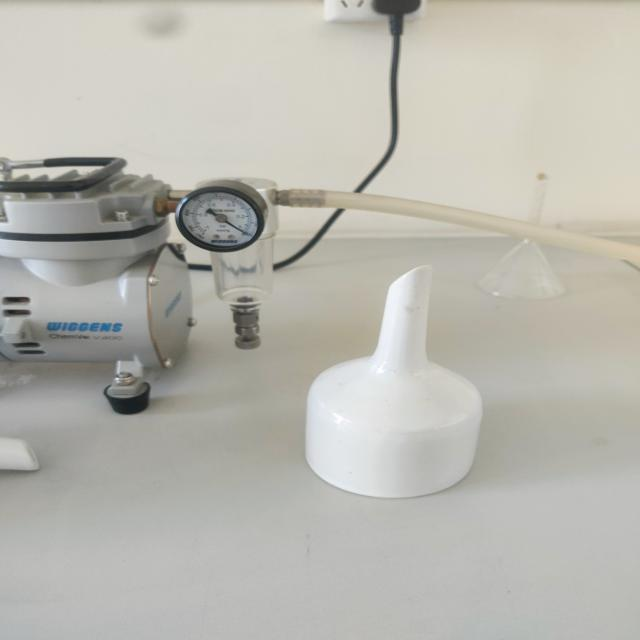Buchner_Funnel: (263, 242, 510, 520)
